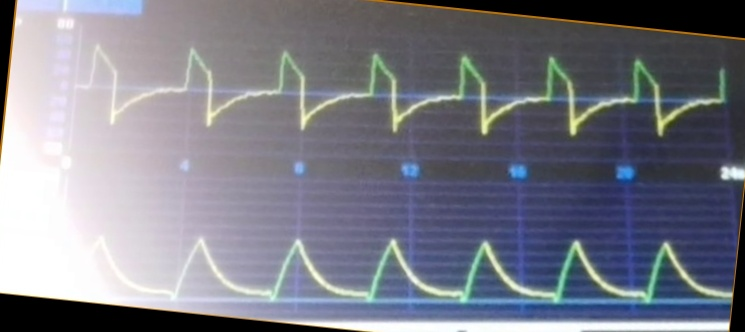Flow: (82, 44, 726, 148)
Leakage Volume: (91, 233, 728, 305)
